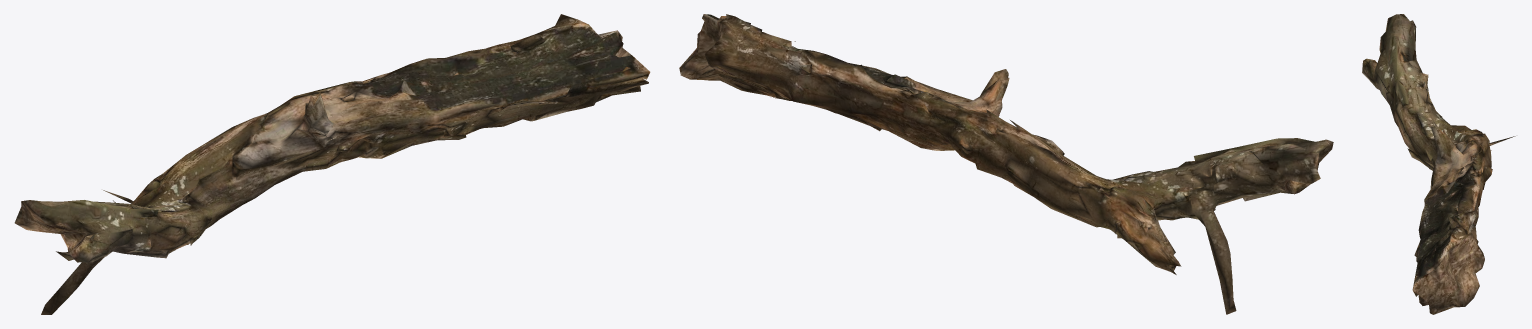
Rendered from dead_tree_trunk_02.glb.
The picture shows the model from 3 angles, left to right: view 1: azimuth 30°, elevation 25°; view 2: azimuth 150°, elevation 25°; view 3: azimuth 270°, elevation 25°; orthographic projection. The views are drawn at different scales.
Parts seen in each view (by area): view 1: dead_tree_trunk_02; view 2: dead_tree_trunk_02; view 3: dead_tree_trunk_02.
Part boxes in pixels (<box>): dead_tree_trunk_02: <box>14,14,650,314</box>; dead_tree_trunk_02: <box>679,14,1333,314</box>; dead_tree_trunk_02: <box>1362,14,1515,314</box>.
Size of the model in its own units: 4.05 by 1.05 by 1.05.
Materials: 1 (1 with a texture image).
